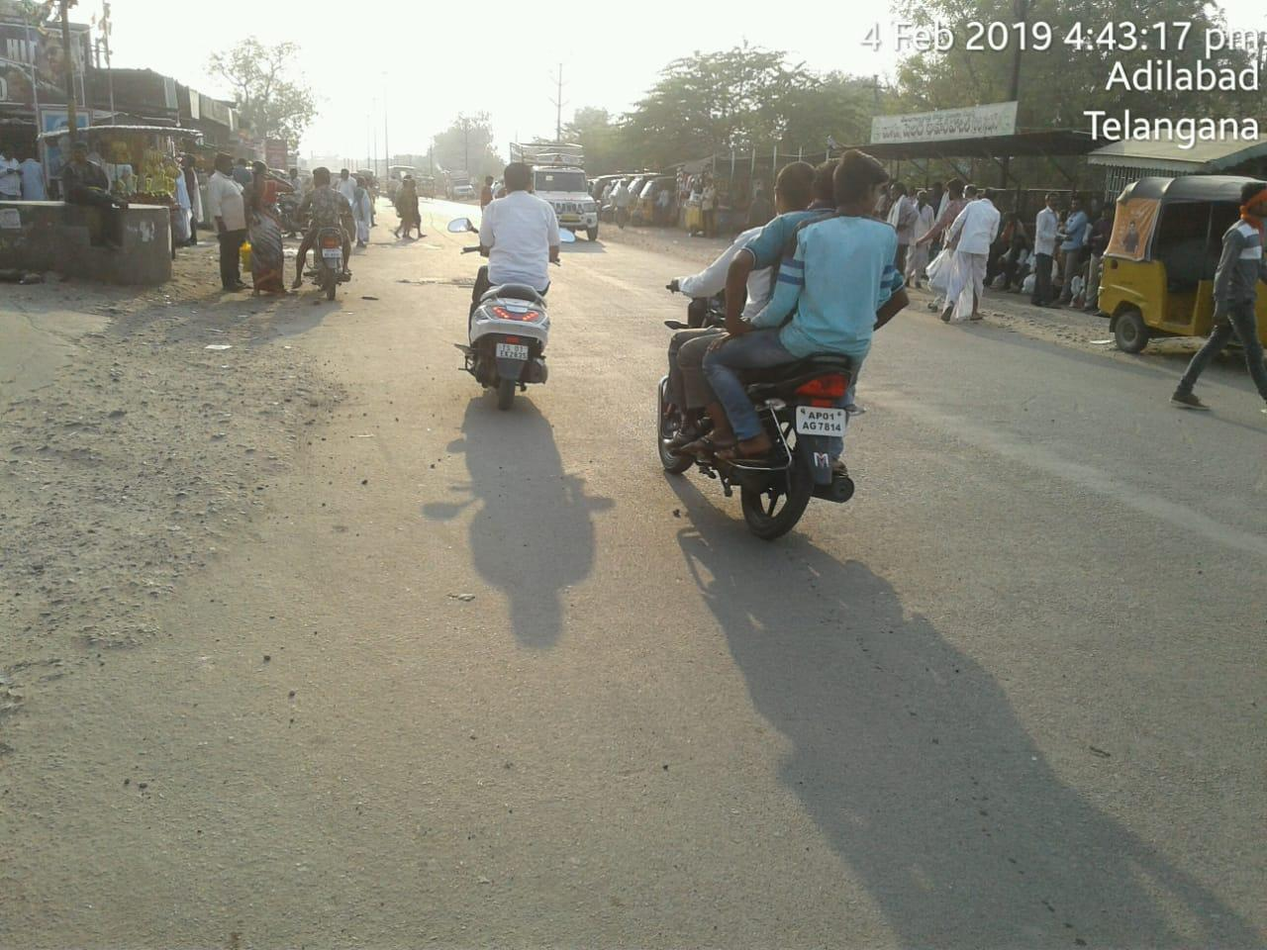plate: (787, 401, 852, 448), (484, 332, 536, 363)
